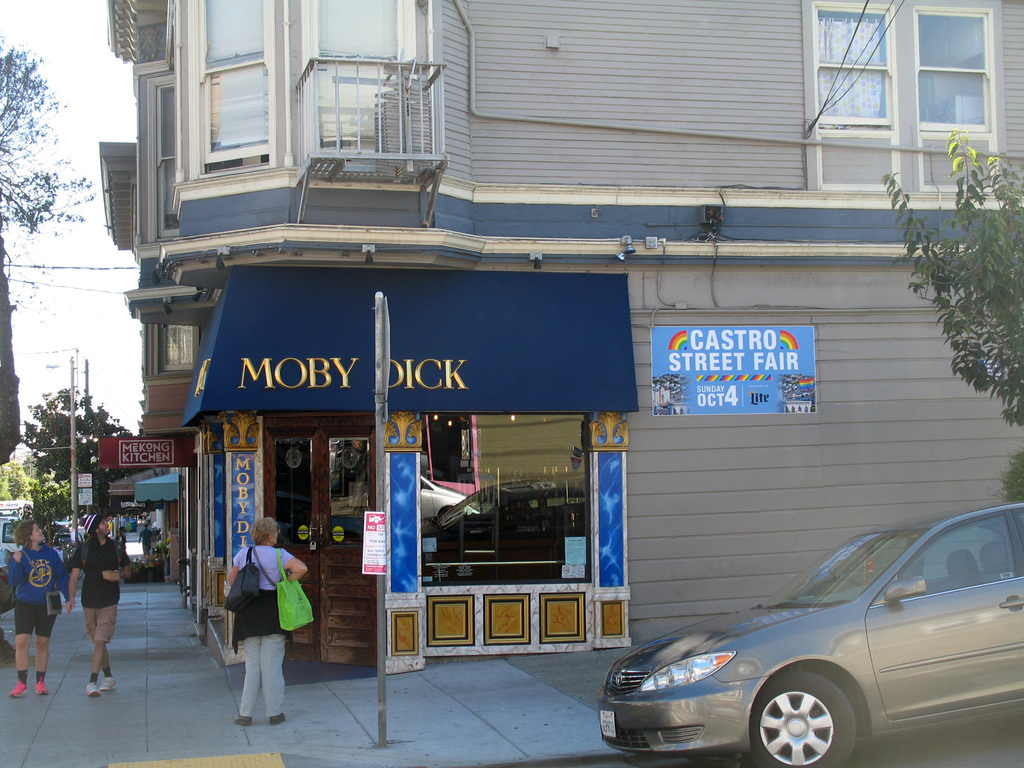cars: (585, 518, 1024, 764), (0, 507, 86, 565)
